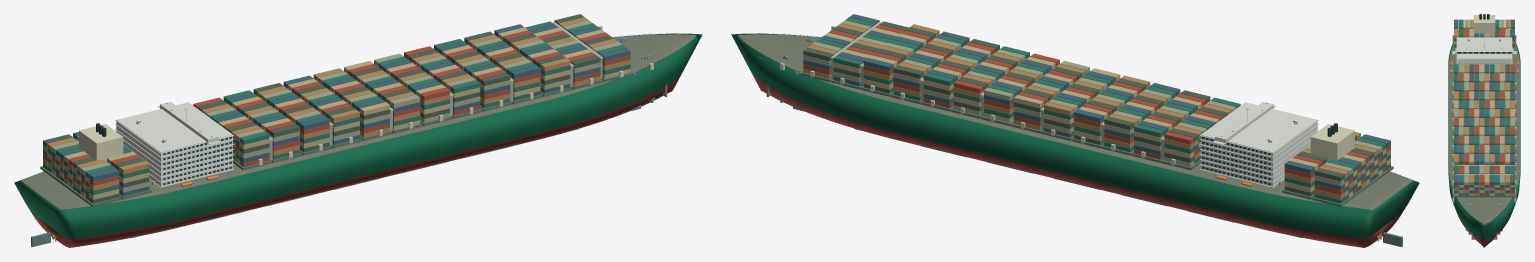
Rendered from ever-ace.lod1.glb.
The picture shows the model from 3 angles, left to right: view 1: azimuth 30°, elevation 25°; view 2: azimuth 150°, elevation 25°; view 3: azimuth 270°, elevation 25°; orthographic projection. The views are drawn at different scales.
Visible parts, largest first — view 1: ever-ace.structure.hull.outer-hull-shell.1, ever-ace.structure.decks.main-strength-deck.1, ever-ace.structure.hull.antifouling-underwater-shell.1, ever-ace.accommodation.superstructure.deck-7-enclosure.1, ever-ace.propulsion.exhaust.exhaust-casing.1, ever-ace.navigation.bridge.wheelhouse.1, ever-ace.accommodation.superstructure.deck-6-enclosure.1, ever-ace.accommodation.superstructure.deck-5-enclosure.1, ever-ace.accommodation.superstructure.deck-4-enclosure.1; view 2: ever-ace.structure.hull.outer-hull-shell.1, ever-ace.structure.decks.main-strength-deck.1, ever-ace.structure.hull.antifouling-underwater-shell.1, ever-ace.accommodation.superstructure.deck-7-enclosure.1, ever-ace.propulsion.exhaust.exhaust-casing.1, ever-ace.navigation.bridge.wheelhouse.1, ever-ace.accommodation.superstructure.deck-6-enclosure.1, ever-ace.accommodation.superstructure.deck-5-enclosure.1, ever-ace.accommodation.superstructure.deck-4-enclosure.1; view 3: ever-ace.structure.decks.main-strength-deck.1, ever-ace.structure.hull.outer-hull-shell.1, ever-ace.accommodation.superstructure.deck-7-enclosure.1, ever-ace.propulsion.exhaust.exhaust-casing.1, ever-ace.navigation.bridge.wheelhouse.1, ever-ace.cargo.hatch-covers.cargo-hatch-18.1, ever-ace.accommodation.superstructure.deck-6-enclosure.1, ever-ace.structure.hull.antifouling-underwater-shell.1, ever-ace.cargo.hatch-covers.cargo-hatch-14.1, ever-ace.cargo.hatch-covers.cargo-hatch-12.1, ever-ace.cargo.hatch-covers.cargo-hatch-8.1, ever-ace.cargo.hatch-covers.cargo-hatch-17.1 (+59 smaller).
Boxes of the visible parts, bbox=[...] form: ever-ace.structure.hull.outer-hull-shell.1: bbox=[14, 33, 702, 239]; ever-ace.structure.decks.main-strength-deck.1: bbox=[21, 34, 696, 210]; ever-ace.structure.hull.antifouling-underwater-shell.1: bbox=[32, 72, 682, 247]; ever-ace.accommodation.superstructure.deck-7-enclosure.1: bbox=[116, 102, 232, 156]; ever-ace.propulsion.exhaust.exhaust-casing.1: bbox=[79, 124, 123, 161]; ever-ace.navigation.bridge.wheelhouse.1: bbox=[160, 101, 218, 143]; ever-ace.accommodation.superstructure.deck-6-enclosure.1: bbox=[116, 125, 232, 161]; ever-ace.accommodation.superstructure.deck-5-enclosure.1: bbox=[116, 130, 232, 166]; ever-ace.accommodation.superstructure.deck-4-enclosure.1: bbox=[123, 140, 232, 171]; ever-ace.structure.hull.outer-hull-shell.1: bbox=[731, 33, 1419, 239]; ever-ace.structure.decks.main-strength-deck.1: bbox=[737, 34, 1412, 210]; ever-ace.structure.hull.antifouling-underwater-shell.1: bbox=[751, 72, 1401, 247]; ever-ace.accommodation.superstructure.deck-7-enclosure.1: bbox=[1201, 102, 1317, 156]; ever-ace.propulsion.exhaust.exhaust-casing.1: bbox=[1310, 124, 1354, 161]; ever-ace.navigation.bridge.wheelhouse.1: bbox=[1215, 101, 1273, 143]; ever-ace.accommodation.superstructure.deck-6-enclosure.1: bbox=[1201, 125, 1317, 161]; ever-ace.accommodation.superstructure.deck-5-enclosure.1: bbox=[1201, 130, 1317, 166]; ever-ace.accommodation.superstructure.deck-4-enclosure.1: bbox=[1201, 140, 1310, 171]; ever-ace.structure.decks.main-strength-deck.1: bbox=[1449, 29, 1519, 224]; ever-ace.structure.hull.outer-hull-shell.1: bbox=[1448, 28, 1520, 240]; ever-ace.accommodation.superstructure.deck-7-enclosure.1: bbox=[1457, 37, 1511, 61]; ever-ace.propulsion.exhaust.exhaust-casing.1: bbox=[1473, 15, 1495, 37]; ever-ace.navigation.bridge.wheelhouse.1: bbox=[1455, 48, 1513, 54]; ever-ace.cargo.hatch-covers.cargo-hatch-18.1: bbox=[1452, 187, 1516, 197]; ever-ace.accommodation.superstructure.deck-6-enclosure.1: bbox=[1457, 61, 1511, 64]; ever-ace.structure.hull.antifouling-underwater-shell.1: bbox=[1457, 213, 1511, 247]; ever-ace.cargo.hatch-covers.cargo-hatch-14.1: bbox=[1452, 151, 1516, 160]; ever-ace.cargo.hatch-covers.cargo-hatch-12.1: bbox=[1452, 133, 1516, 142]; ever-ace.cargo.hatch-covers.cargo-hatch-8.1: bbox=[1452, 98, 1516, 106]; ever-ace.cargo.hatch-covers.cargo-hatch-17.1: bbox=[1452, 178, 1516, 187].
Size of the model in its own units: 401 by 59.53 by 61.5.
